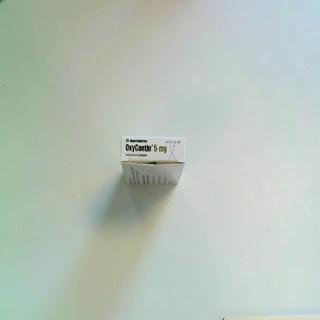oxycontin5mg: (120, 135, 188, 188)
